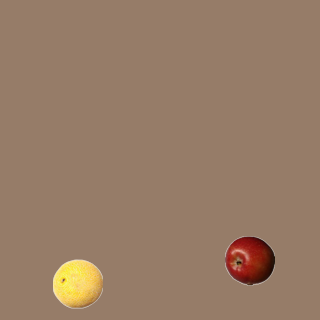Apple Braeburn: (224, 235, 274, 285)
Cantaloupe 1: (52, 258, 102, 308)
